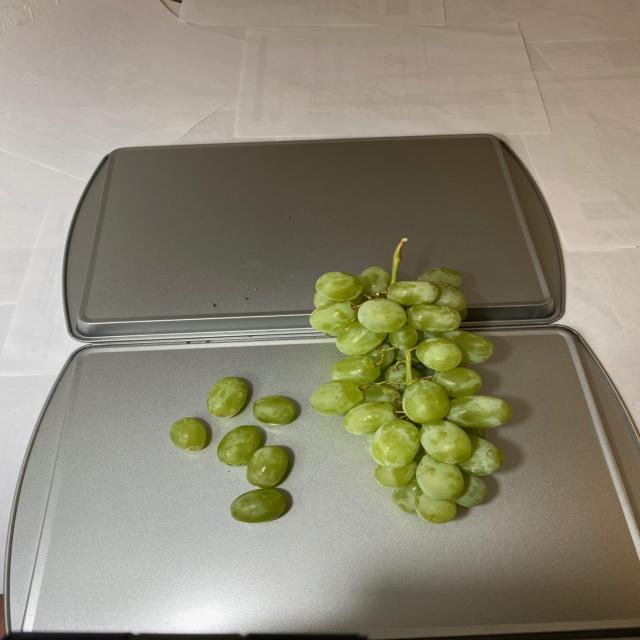Grapes: (169, 235, 514, 534), (306, 233, 516, 534), (168, 372, 304, 525)
